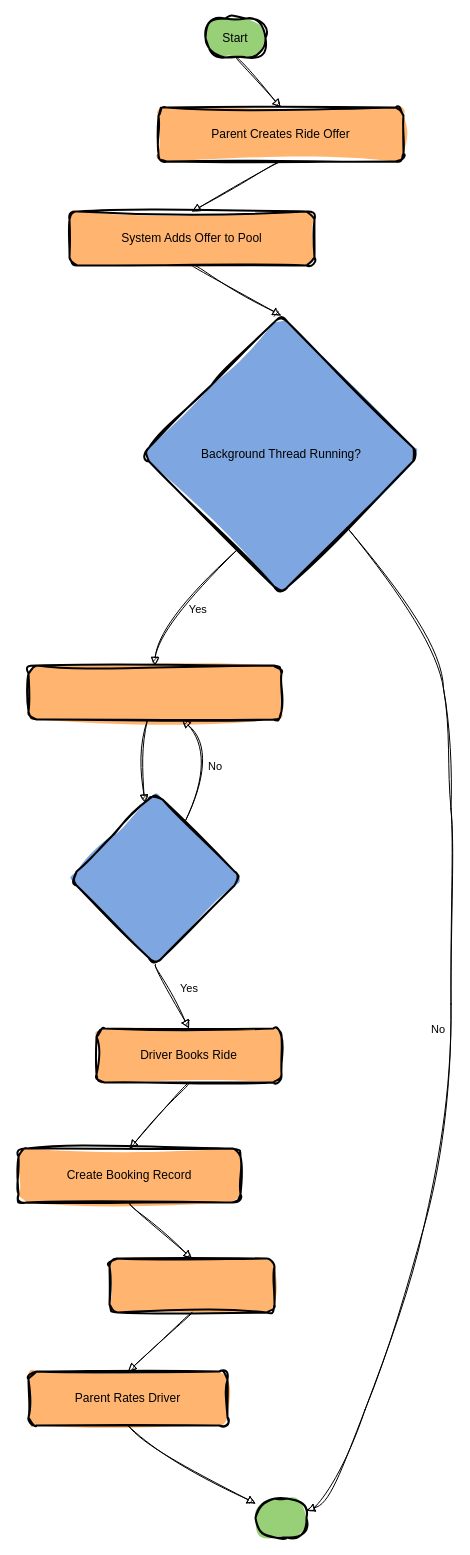
Image size: 470x1555. Some labels were removed from this diagram. The shapes that lost their labels are listed below. From the top down, each one's box as (x1, y1, x2, y2) in pixels, then its label:
(27, 664, 282, 720): Check for Unbooked Offers
(68, 791, 242, 965): Driver Available?
(108, 1257, 275, 1313): Complete Ride
(254, 1497, 307, 1538): End
